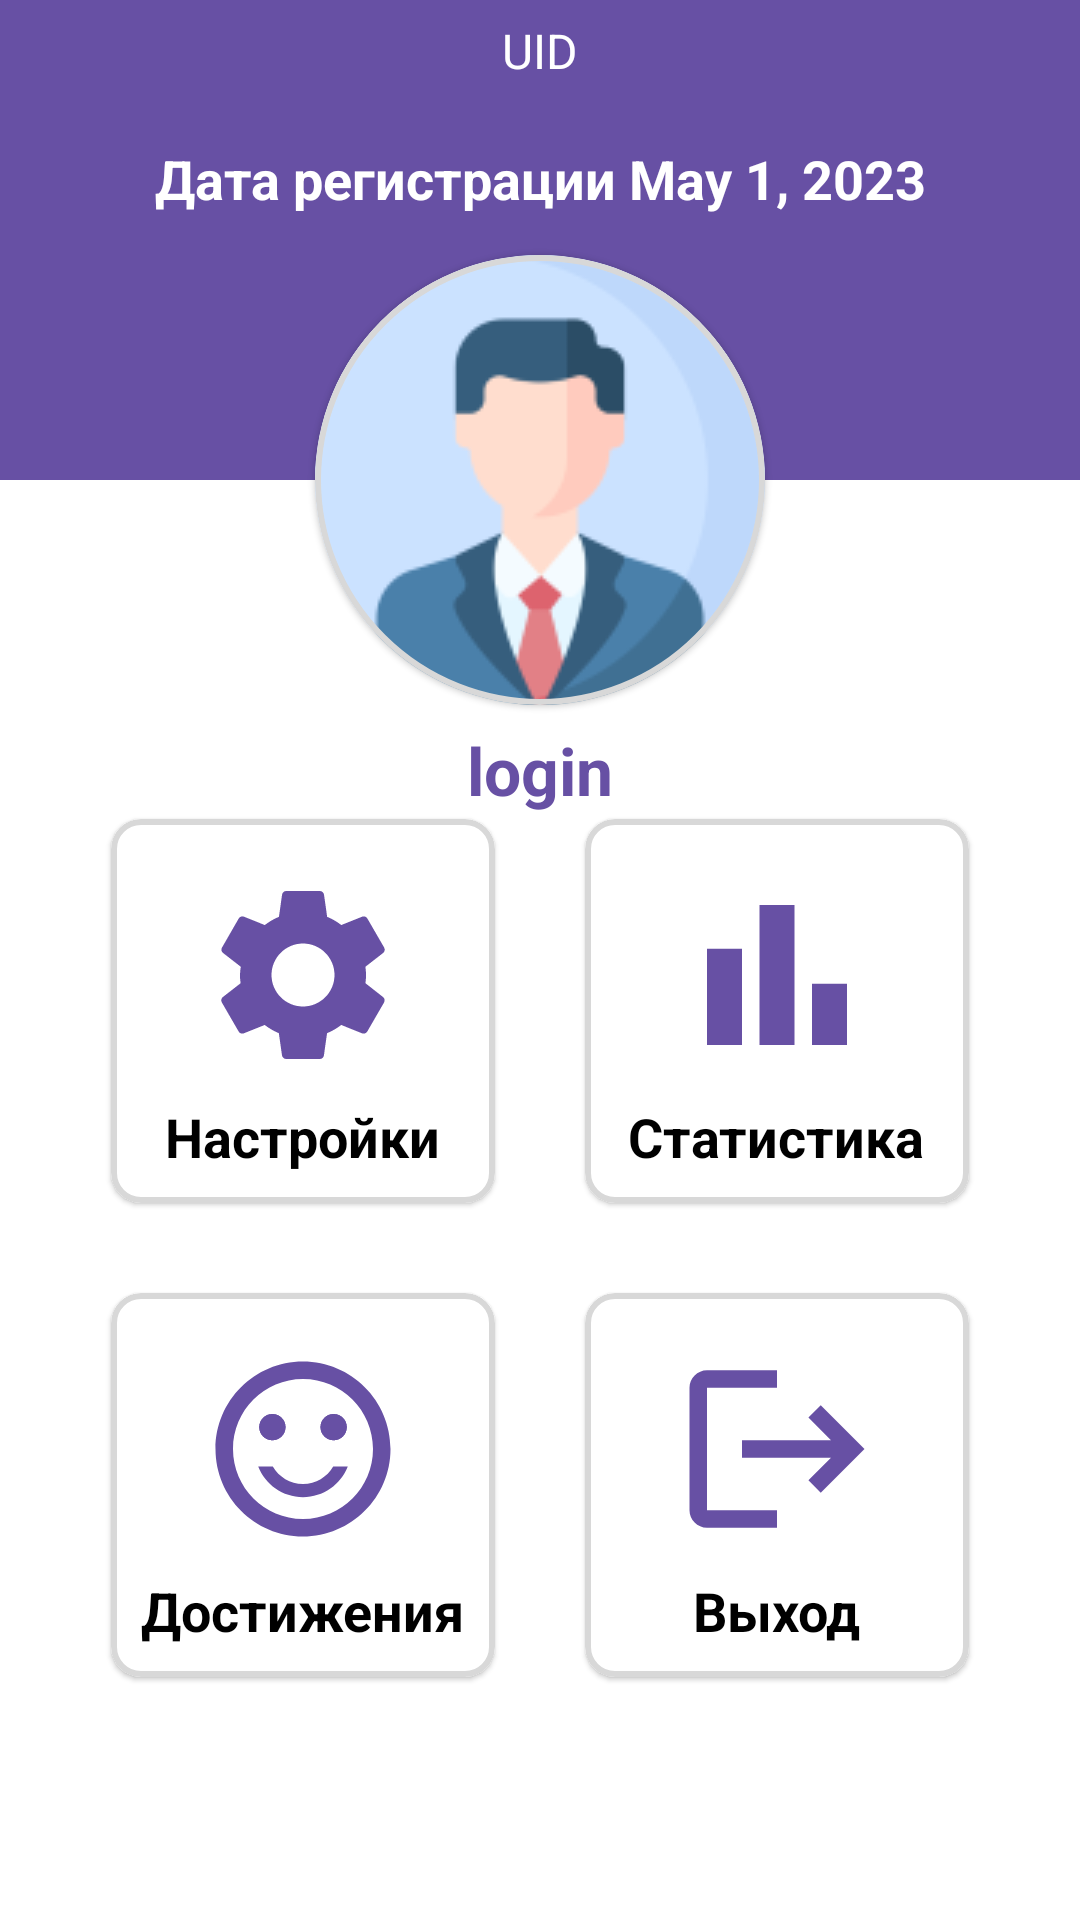

Icons on this 1080px×1920px Android screen, each with its box as (x1,y1,x2,y2):
bar chart: (707,905,847,1045)
satisfied: (215,1361,391,1537)
settings: (221,891,385,1059)
